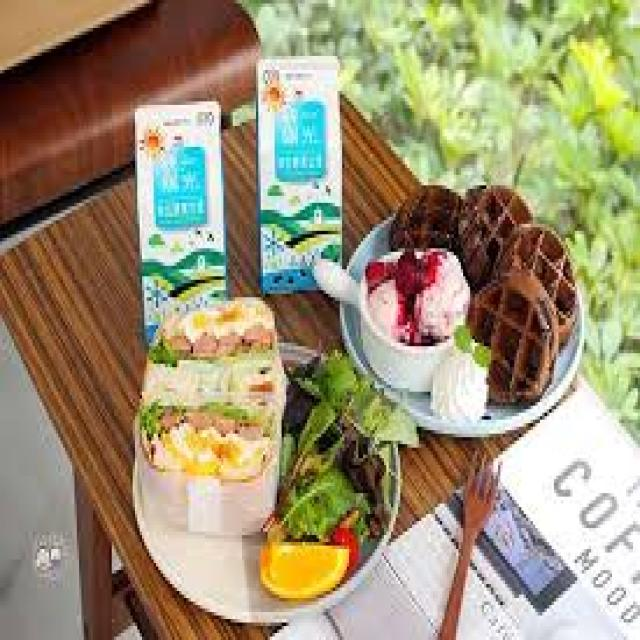TongYi_UnsweetenedBlackSoyMilk: (133, 98, 227, 304), (256, 58, 342, 256)
